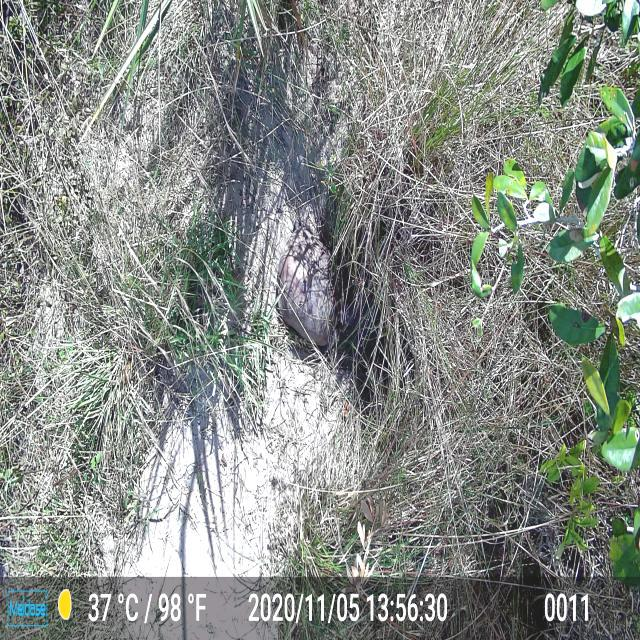tortoise: (276, 223, 355, 357)
